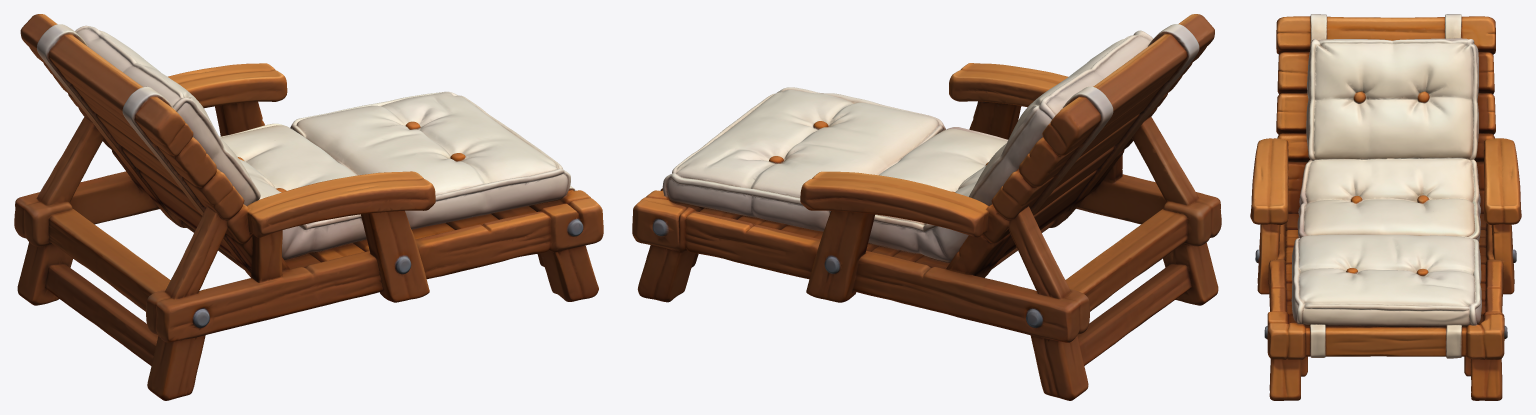
The model's file is chair-clean.glb.
3 views of the same model, side by side, from view 1: azimuth 30°, elevation 25°; view 2: azimuth 150°, elevation 25°; view 3: azimuth 270°, elevation 25° (orthographic). The views are drawn at different scales.
Visible parts, largest first — view 1: tripo_node_e3edc0a2-89f7-4e74-96d9-36032e799ee2; view 2: tripo_node_e3edc0a2-89f7-4e74-96d9-36032e799ee2; view 3: tripo_node_e3edc0a2-89f7-4e74-96d9-36032e799ee2.
Boxes of the visible parts, x1,y1,x2,y2 form: tripo_node_e3edc0a2-89f7-4e74-96d9-36032e799ee2: [14, 14, 603, 400]; tripo_node_e3edc0a2-89f7-4e74-96d9-36032e799ee2: [632, 14, 1221, 400]; tripo_node_e3edc0a2-89f7-4e74-96d9-36032e799ee2: [1250, 14, 1521, 400].
Size of the model in its own units: 1 by 0.6133 by 0.6679.
1 material, 1 textured.
